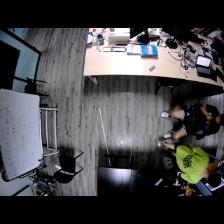normal: (158, 101, 224, 139), (164, 143, 218, 186)
